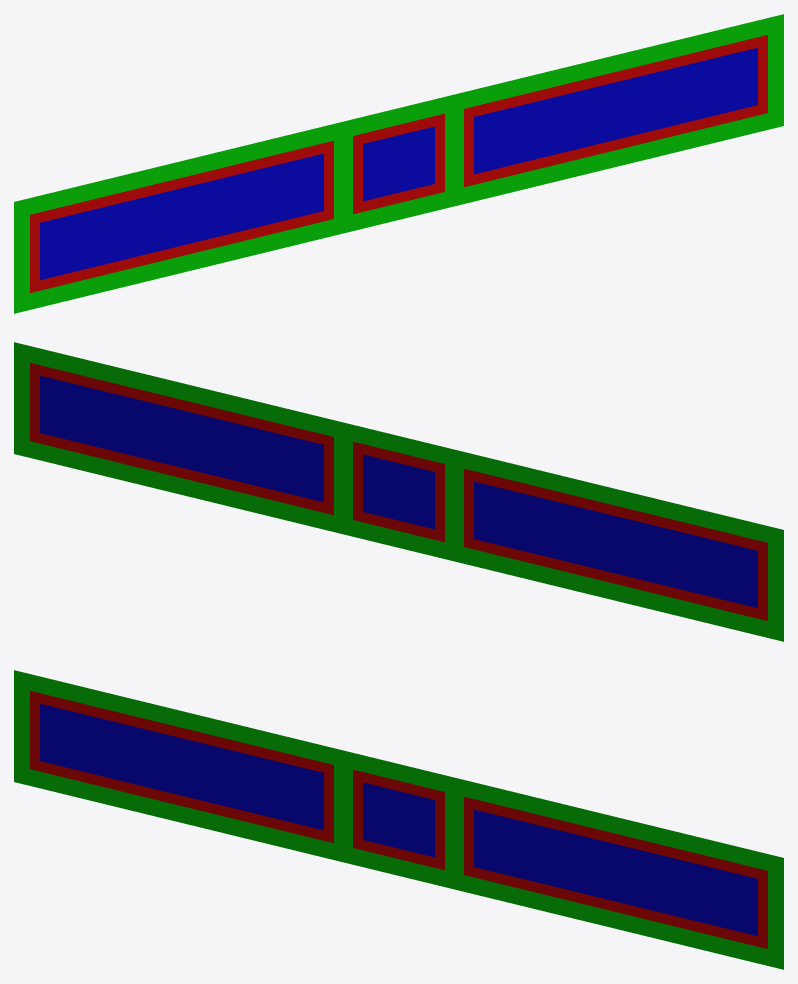
The model's file is SM_Fresco_FrameWideA4m.fbx.
3 views of the same model, one above another, from view 1: azimuth 30°, elevation 25°; view 2: azimuth 150°, elevation 25°; view 3: azimuth 330°, elevation 25° (orthographic).
Visible parts, largest first — view 1: SM_Fresco_FrameWideA4m; view 2: SM_Fresco_FrameWideA4m; view 3: SM_Fresco_FrameWideA4m.
Boxes of the visible parts, <box> form: SM_Fresco_FrameWideA4m: <box>14,14,783,313</box>; SM_Fresco_FrameWideA4m: <box>14,342,783,641</box>; SM_Fresco_FrameWideA4m: <box>14,670,783,969</box>.
Size of the model in its own units: 360 by 50 by 8.15e-06.
